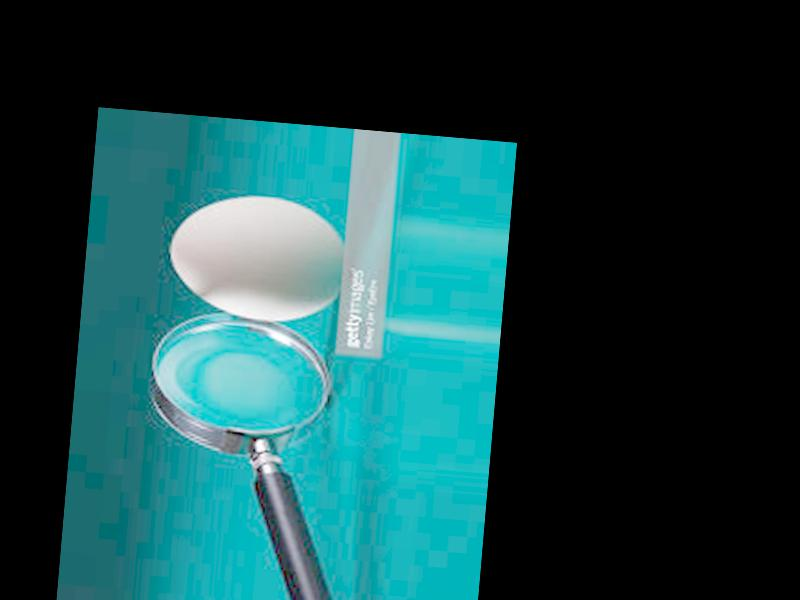Eggs: (164, 188, 350, 327)
